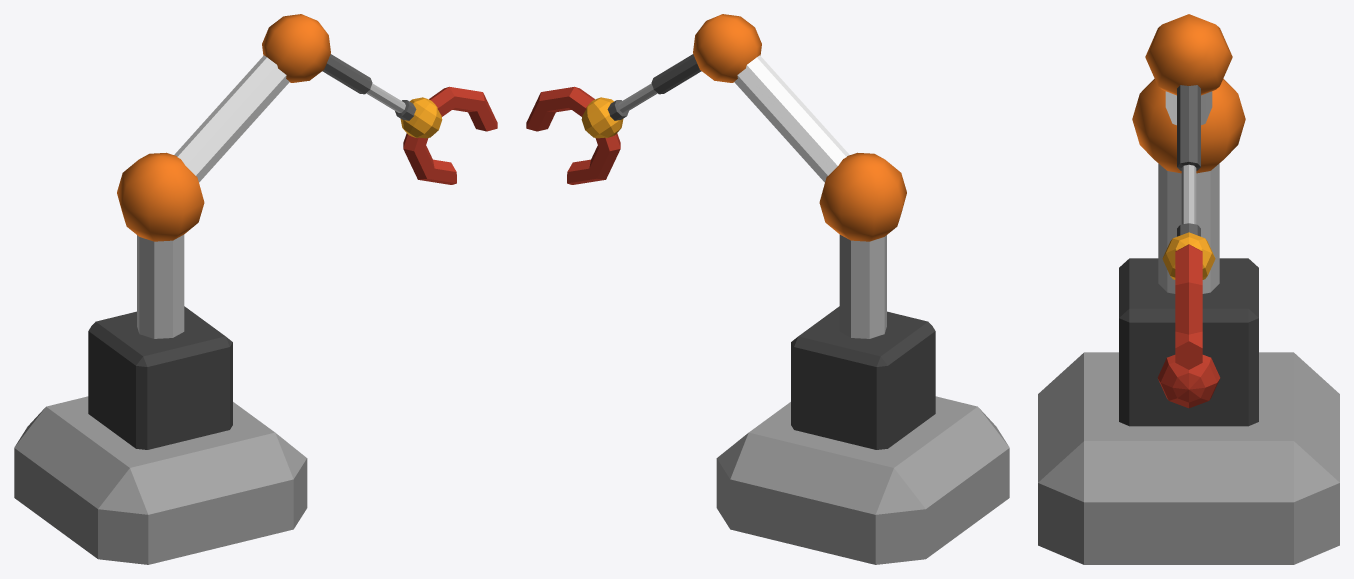
Rendered from RobotArm1_Fractured.fbx.
3 renders of one model, left to right at view 1: azimuth 30°, elevation 25°; view 2: azimuth 150°, elevation 25°; view 3: azimuth 270°, elevation 25°, orthographic. The views are drawn at different scales.
Parts seen in each view (by area): view 1: polySurface130.007, polySurface130.006, polySurface130.001, polySurface130.004, polySurface130.009, polySurface130.002, polySurface130.005, polySurface130.008, polySurface130; view 2: polySurface130.007, polySurface130.006, polySurface130.001, polySurface130.004, polySurface130.009, polySurface130.002, polySurface130.005, polySurface130.008, polySurface130; view 3: polySurface130.007, polySurface130.006, polySurface130.001, polySurface130.002, polySurface130.009, polySurface130.005, polySurface130.008, polySurface130.003, polySurface130, polySurface130.004.
Part boxes in pixels (x1,y1,x2,y2): polySurface130.007: (14, 396, 307, 564); polySurface130.006: (88, 306, 232, 449); polySurface130.001: (117, 152, 204, 241); polySurface130.004: (174, 55, 289, 182); polySurface130.009: (137, 234, 184, 338); polySurface130.002: (262, 14, 330, 82); polySurface130.005: (403, 86, 497, 184); polySurface130.008: (322, 54, 416, 120); polySurface130: (400, 97, 442, 138); polySurface130.007: (716, 396, 1009, 564); polySurface130.006: (791, 306, 935, 449); polySurface130.001: (819, 152, 906, 241); polySurface130.004: (734, 55, 849, 182); polySurface130.009: (839, 234, 886, 338); polySurface130.002: (693, 14, 761, 82); polySurface130.005: (526, 86, 620, 184); polySurface130.008: (607, 54, 701, 120); polySurface130: (581, 97, 623, 138); polySurface130.007: (1038, 352, 1339, 564); polySurface130.006: (1119, 258, 1258, 426); polySurface130.001: (1132, 79, 1245, 173); polySurface130.002: (1145, 14, 1232, 95); polySurface130.009: (1158, 163, 1219, 293); polySurface130.005: (1175, 244, 1202, 369); polySurface130.008: (1177, 85, 1200, 236); polySurface130.003: (1157, 355, 1220, 408); polySurface130: (1162, 232, 1215, 279); polySurface130.004: (1165, 91, 1212, 125).
Bounding box in the file's own units: 10.51 × 10.28 × 4.98.
